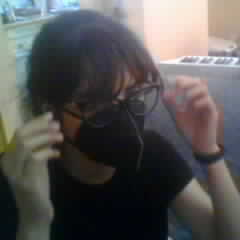with_mask: (64, 72, 161, 171)
